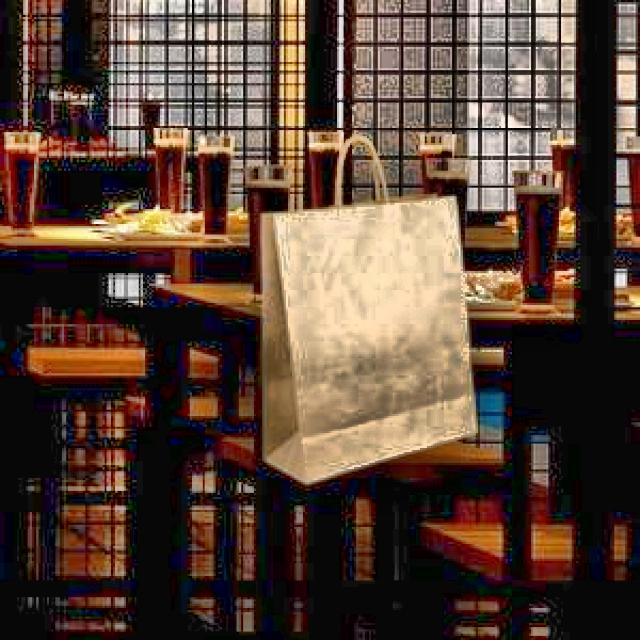Paper-bag: (247, 117, 492, 499)
